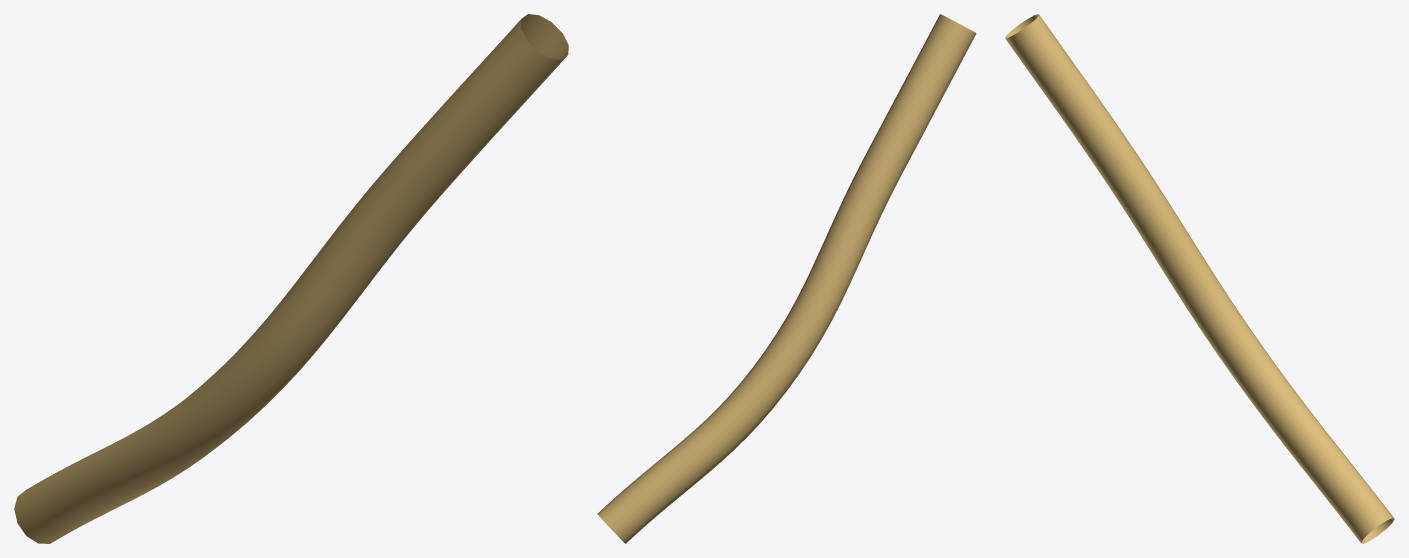
3 renders of one model, left to right at view 1: azimuth 90°, elevation 25°; view 2: azimuth 150°, elevation 25°; view 3: azimuth 270°, elevation 25°, orthographic. The views are drawn at different scales.
Parts seen in each view (by area): view 1: 右侧射精管; view 2: 右侧射精管; view 3: 右侧射精管.
Boxes of the visible parts, box(x1,y1,x2,y2) form: 右侧射精管: box(14, 14, 568, 543); 右侧射精管: box(597, 14, 976, 543); 右侧射精管: box(1005, 14, 1394, 543).
Size of the model in its own units: 0.0133 by 0.0278 by 0.0219.
